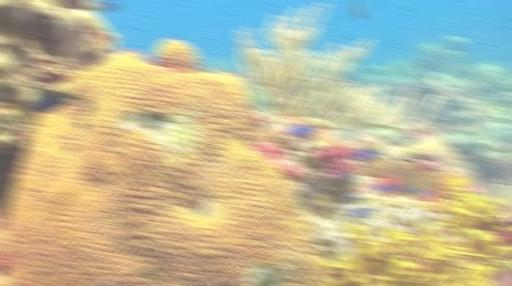Fish: (30, 90, 77, 113), (290, 122, 315, 138), (353, 148, 376, 164), (350, 206, 379, 217), (93, 0, 118, 11), (353, 0, 363, 18), (371, 185, 392, 192), (347, 191, 360, 202), (416, 188, 427, 196), (207, 65, 216, 72), (351, 196, 360, 202)
